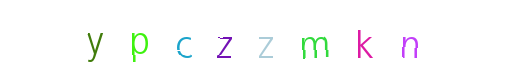C: (185, 0, 265, 80)
K: (322, 0, 402, 80)
M: (225, 0, 305, 80)
N: (344, 0, 424, 80)
P: (143, 0, 223, 80)
Y: (54, 0, 134, 80)
Z: (187, 0, 267, 80), (189, 0, 269, 80)
